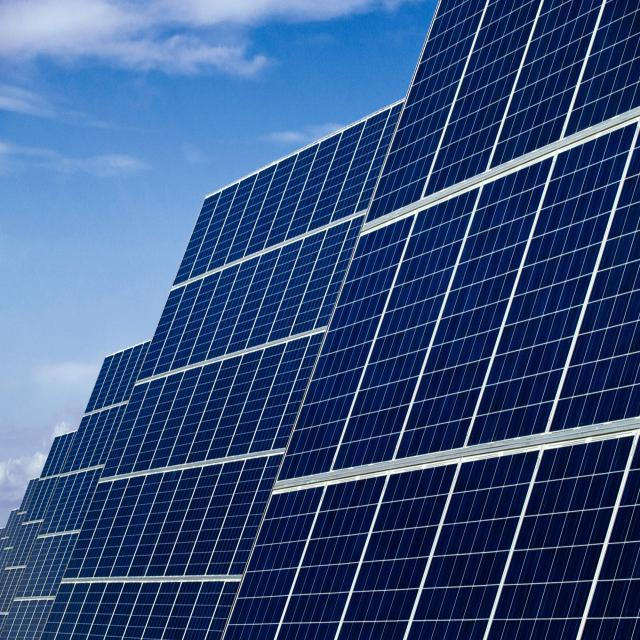Non Defective: (464, 121, 637, 448), (393, 153, 555, 458), (330, 184, 482, 473), (276, 206, 420, 486), (485, 432, 635, 640), (546, 129, 638, 440), (370, 0, 487, 218), (409, 448, 539, 640), (422, 3, 543, 204), (337, 460, 459, 640), (491, 0, 601, 167), (276, 472, 383, 640), (223, 481, 328, 640), (566, 0, 640, 136), (178, 458, 245, 583), (204, 455, 267, 582), (59, 474, 133, 581), (162, 462, 225, 580), (266, 229, 328, 348), (143, 463, 206, 580), (291, 220, 353, 338), (116, 372, 186, 475), (161, 359, 222, 474), (184, 353, 245, 466), (226, 344, 285, 460), (203, 249, 265, 359), (244, 238, 303, 353), (249, 338, 307, 452), (207, 347, 264, 460), (223, 247, 281, 358), (332, 111, 389, 220), (128, 469, 184, 577), (310, 122, 365, 229), (95, 469, 149, 575), (188, 264, 241, 371), (149, 366, 203, 470), (112, 473, 166, 577), (288, 133, 340, 238), (266, 144, 318, 247), (101, 379, 155, 477), (246, 156, 296, 256), (226, 164, 276, 262), (209, 176, 256, 269), (191, 184, 238, 276), (172, 276, 219, 367), (174, 193, 220, 285), (155, 282, 201, 373), (40, 582, 110, 640), (141, 287, 184, 376), (122, 580, 165, 640), (162, 579, 204, 639), (139, 582, 184, 636), (84, 583, 125, 640), (102, 581, 141, 640), (183, 582, 223, 639)
